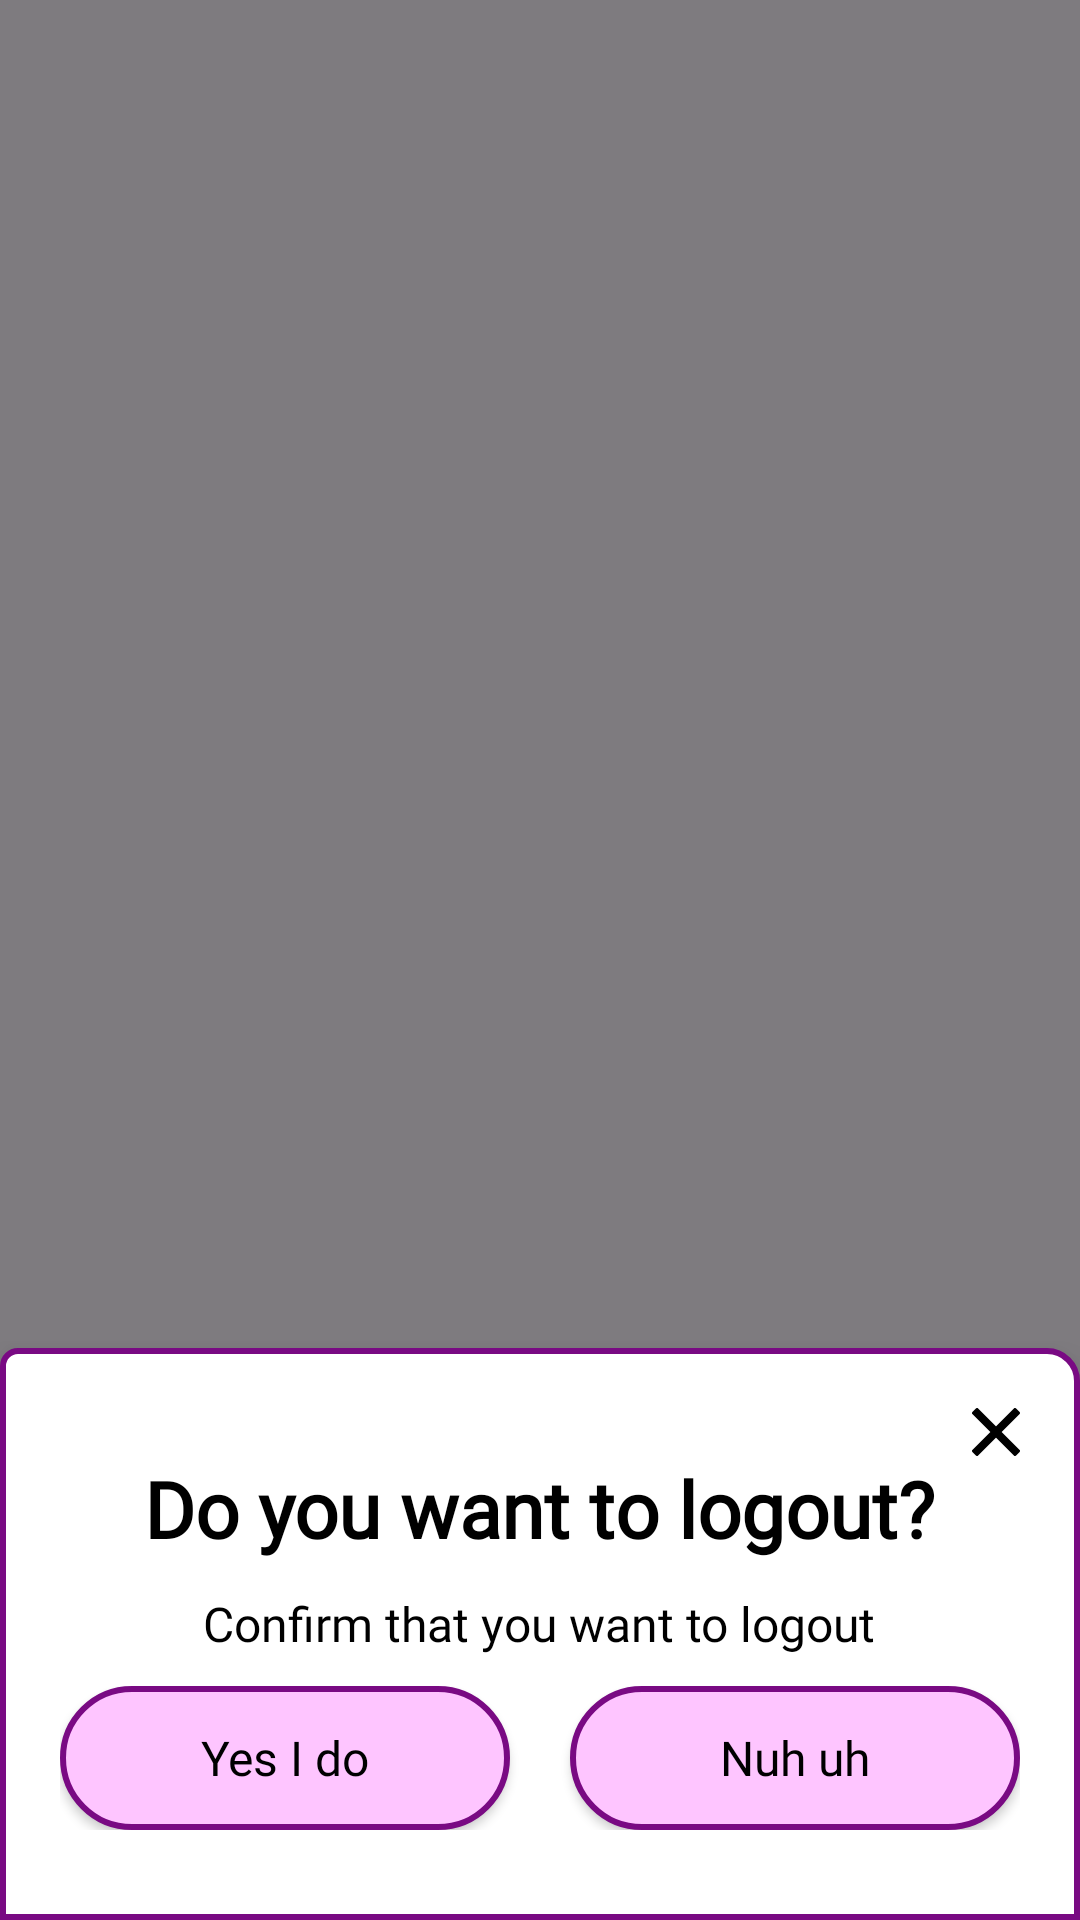

Point at icon controls on the screen. Image size 1080 × 1920, points as (x=x, y=y).
quit: (x=996, y=1432)
